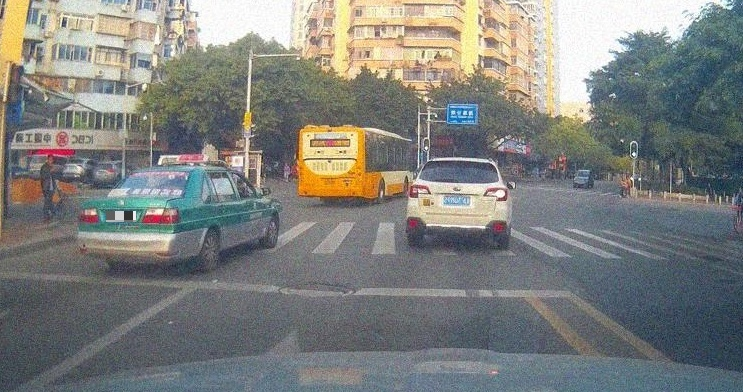L_light: (77, 207, 99, 223), (409, 184, 431, 199), (299, 164, 304, 181)
R_light: (142, 208, 179, 224), (482, 187, 507, 202), (357, 165, 363, 184)
T_light: (149, 172, 165, 176), (453, 160, 468, 164), (325, 131, 334, 134)
day-no: (78, 165, 191, 272), (299, 126, 364, 204)
day-right: (406, 157, 511, 249)
plate_1: (106, 211, 136, 222)
